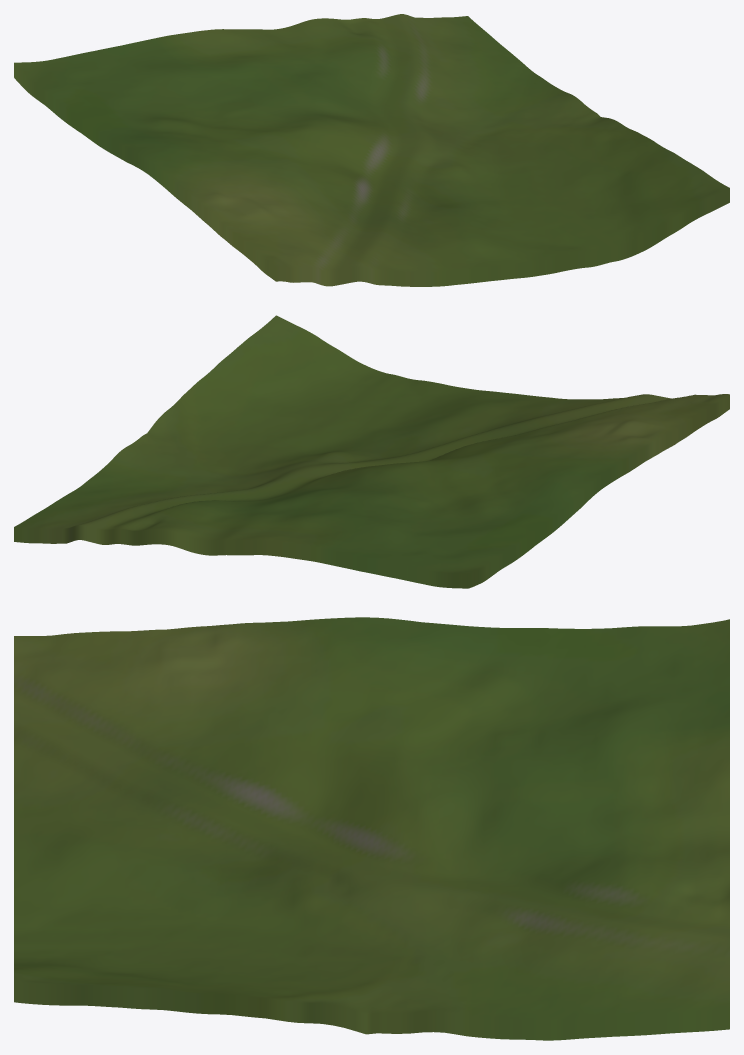
Rendered from terrain_9_-21.glb.
The picture shows the model from 3 angles, top to bottom: view 1: azimuth 30°, elevation 25°; view 2: azimuth 150°, elevation 25°; view 3: azimuth 270°, elevation 25°; orthographic projection. The views are drawn at different scales.
Visible parts, largest first — view 1: terrain_9_-21; view 2: terrain_9_-21; view 3: terrain_9_-21.
Boxes of the visible parts, x1=… form: terrain_9_-21: x1=14, y1=14, x2=729, y2=286; terrain_9_-21: x1=14, y1=315, x2=729, y2=588; terrain_9_-21: x1=14, y1=617, x2=729, y2=1040.
Size of the model in its own units: 256 by 49.17 by 256.
